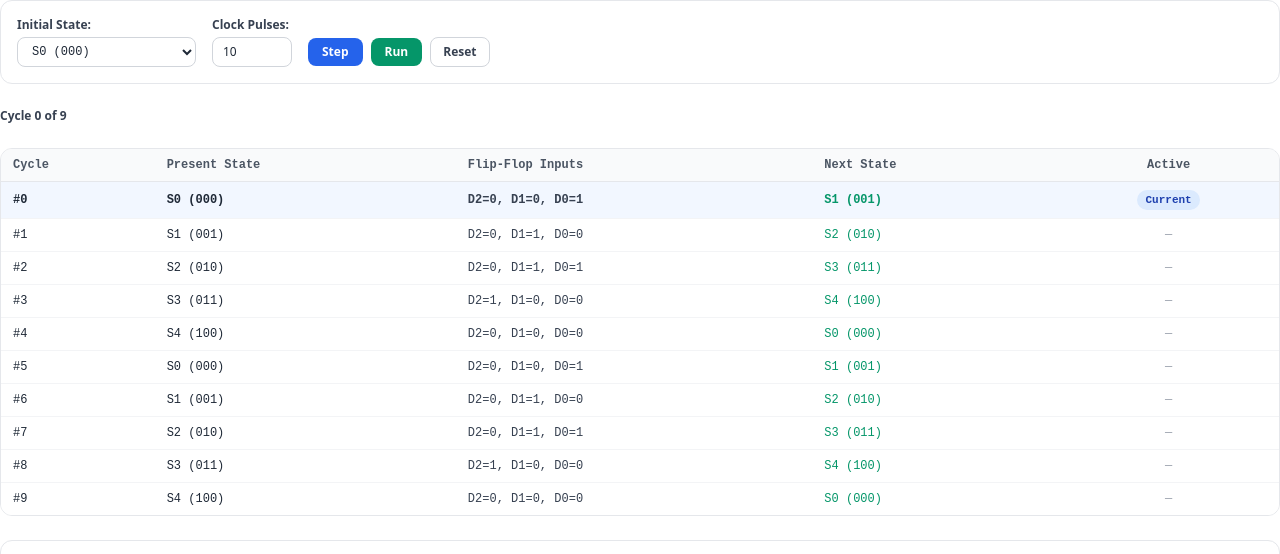
it: SimulateCounter component › starting in an unused state shows the lockout analysis result
This screenshot has width=1280, height=554.
# Change initial state select to unused state S5
Select "S5 (101) — (Unused)" in the dropdown named "Initial State Select" at (106, 52), box [17, 37, 196, 67]
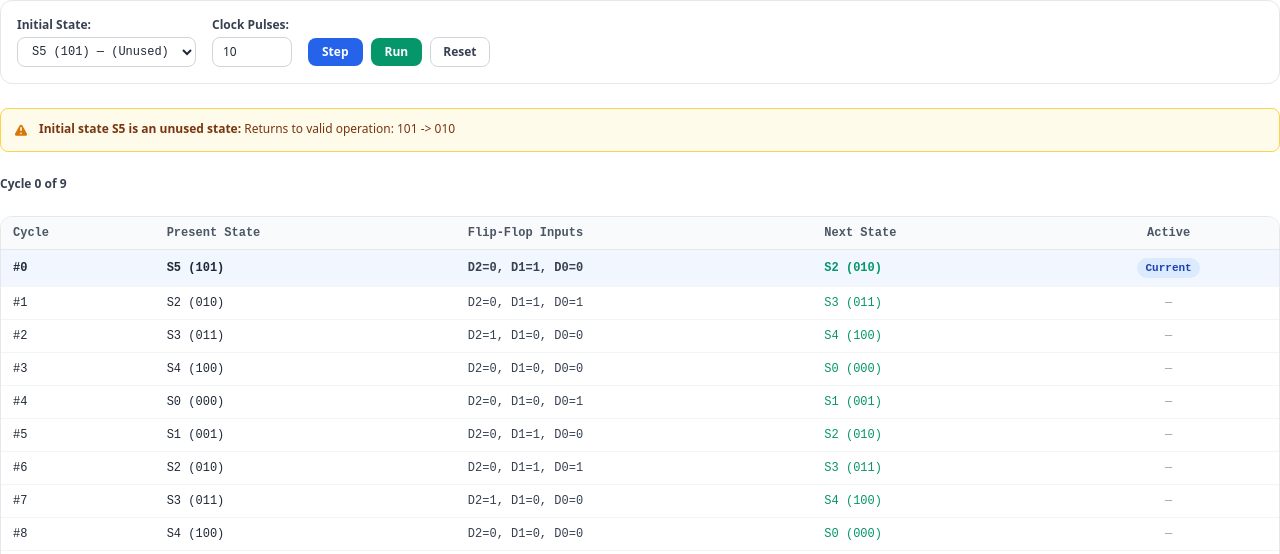
Expected: the text "Initial state S5 is an unused state:" is shown, [39, 120, 244, 137]
Expected: the text "Returns to valid operation: 101 -> 010" is shown, [244, 120, 455, 137]
